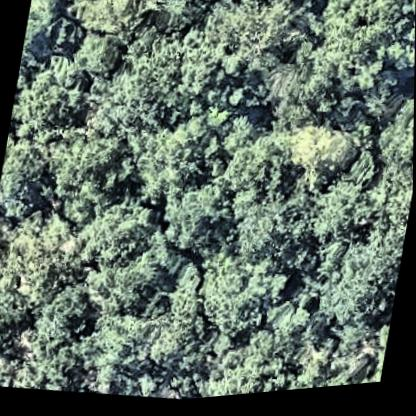tree-top: (67, 194, 178, 325), (299, 0, 416, 113), (186, 248, 288, 356), (312, 231, 405, 345), (41, 111, 138, 215), (209, 0, 318, 82), (155, 178, 241, 269), (14, 46, 91, 142), (276, 120, 364, 200), (0, 139, 51, 219), (68, 0, 149, 46)
